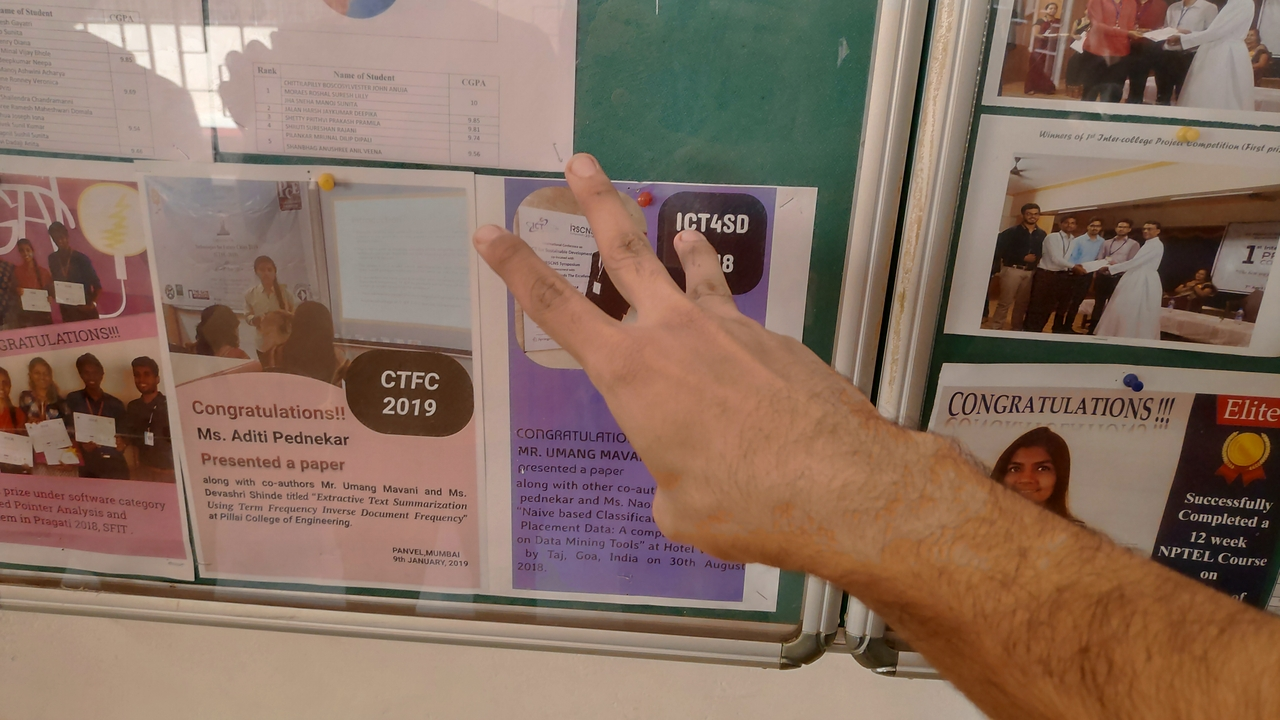fingertip: (456, 214, 518, 270), (556, 146, 614, 190)
